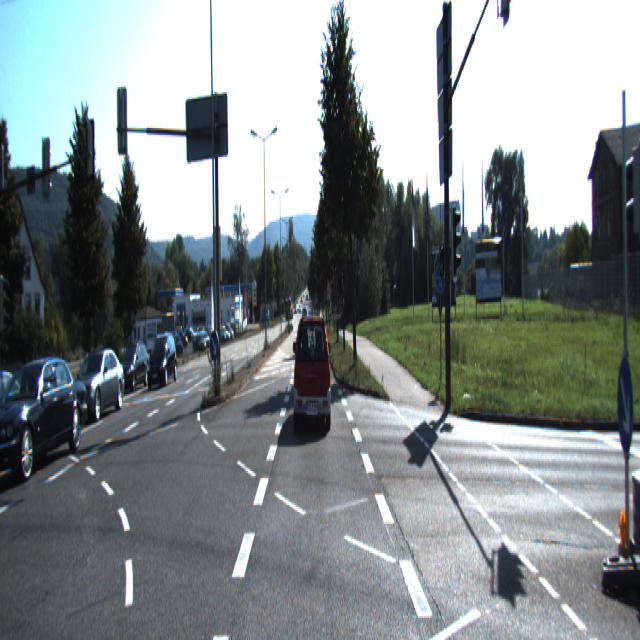Car: (0, 351, 88, 484), (67, 349, 125, 426), (294, 312, 331, 429), (147, 334, 177, 392)
